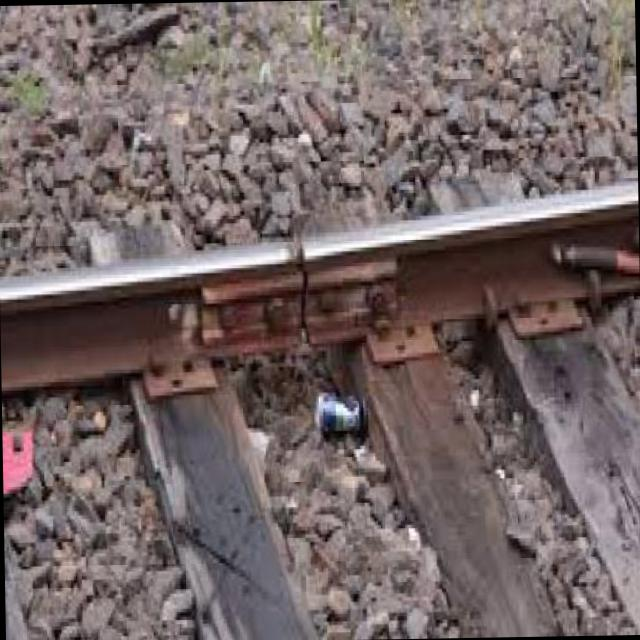defective: (202, 198, 386, 418)
